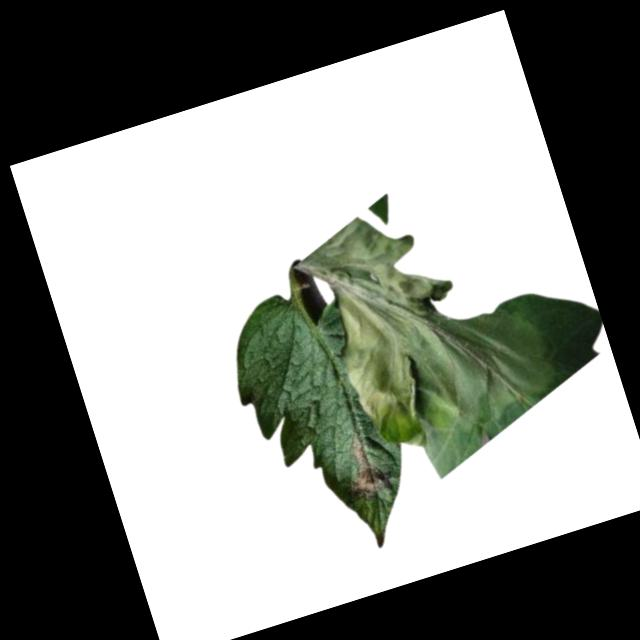Late_blight: (288, 167, 588, 466), (345, 439, 391, 501)
